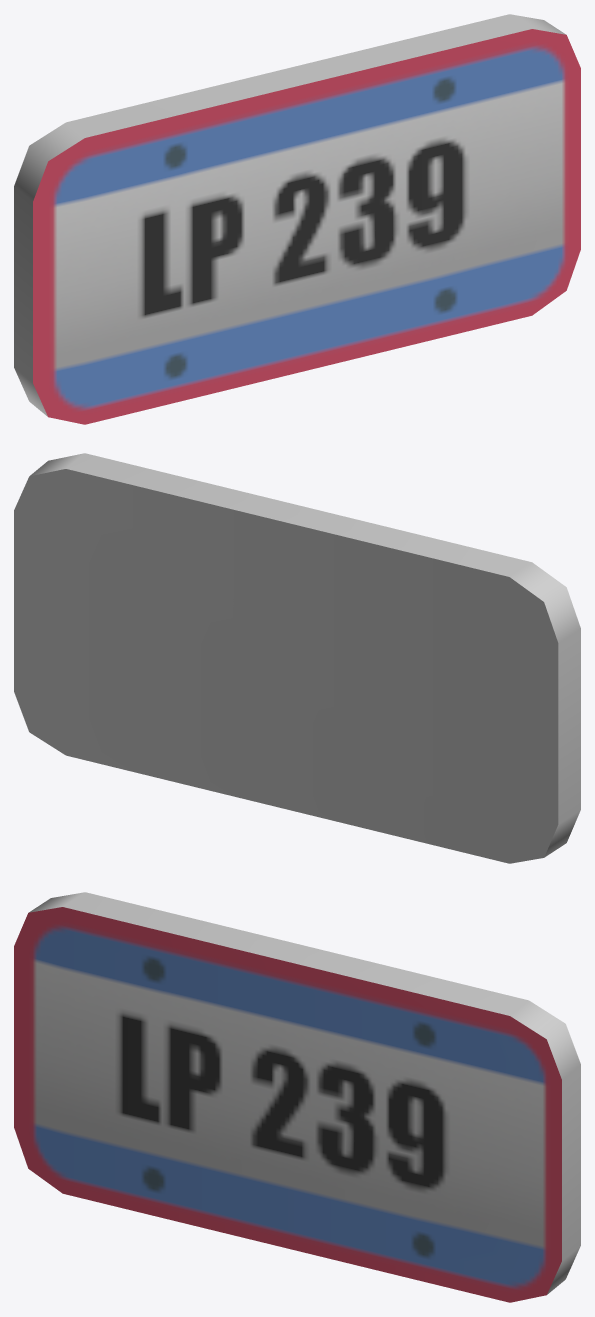
The model's file is Car_Number_23.fbx.
3 views of the same model, one above another, from view 1: azimuth 30°, elevation 25°; view 2: azimuth 150°, elevation 25°; view 3: azimuth 330°, elevation 25° (orthographic).
Parts seen in each view (by area): view 1: Car_Number_23; view 2: Car_Number_23; view 3: Car_Number_23.
Boxes of the visible parts, x1,y1,x2,y2 form: Car_Number_23: (14, 14, 580, 424); Car_Number_23: (14, 453, 580, 863); Car_Number_23: (14, 892, 580, 1302).
Size of the model in its own units: 49.09 by 3.48 by 24.55.
